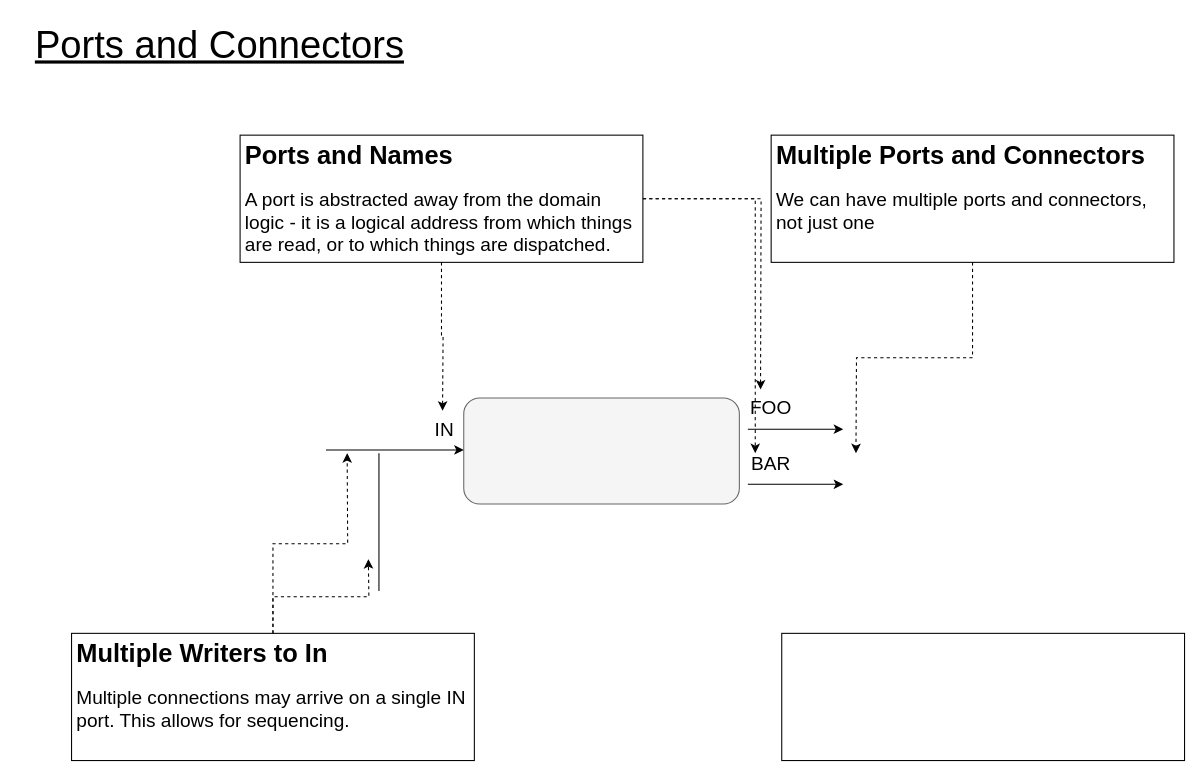
Some shapes in this 1203 by 779 pixel diagram are drawn without their labels. Each missing label, with the centre of its shape:
"Component" goes at [601,450].
"Single Writers to Out Each 'out' port only has a single connection" goes at [983,696].
